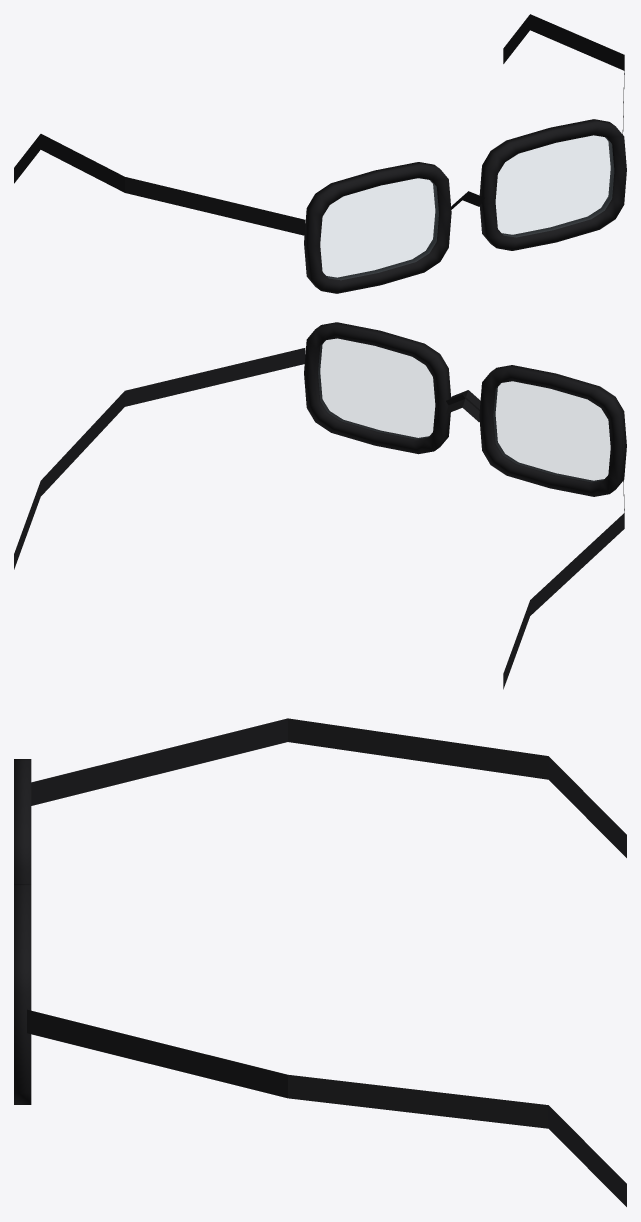
File: accessory_glasses_female.glb
3 views of the same model, one above another, from view 1: azimuth 30°, elevation 25°; view 2: azimuth 150°, elevation 25°; view 3: azimuth 270°, elevation 25° (orthographic). The views are drawn at different scales.
Parts seen in each view (by area): view 1: accessory_glasses; view 2: accessory_glasses; view 3: accessory_glasses.
Part boxes in pixels (box(x1,y1,x2,y2)): accessory_glasses: box(14, 14, 626, 293); accessory_glasses: box(14, 322, 626, 689); accessory_glasses: box(14, 718, 626, 1206).
Size of the model in its own units: 0.1939 by 0.0461 by 0.141.
